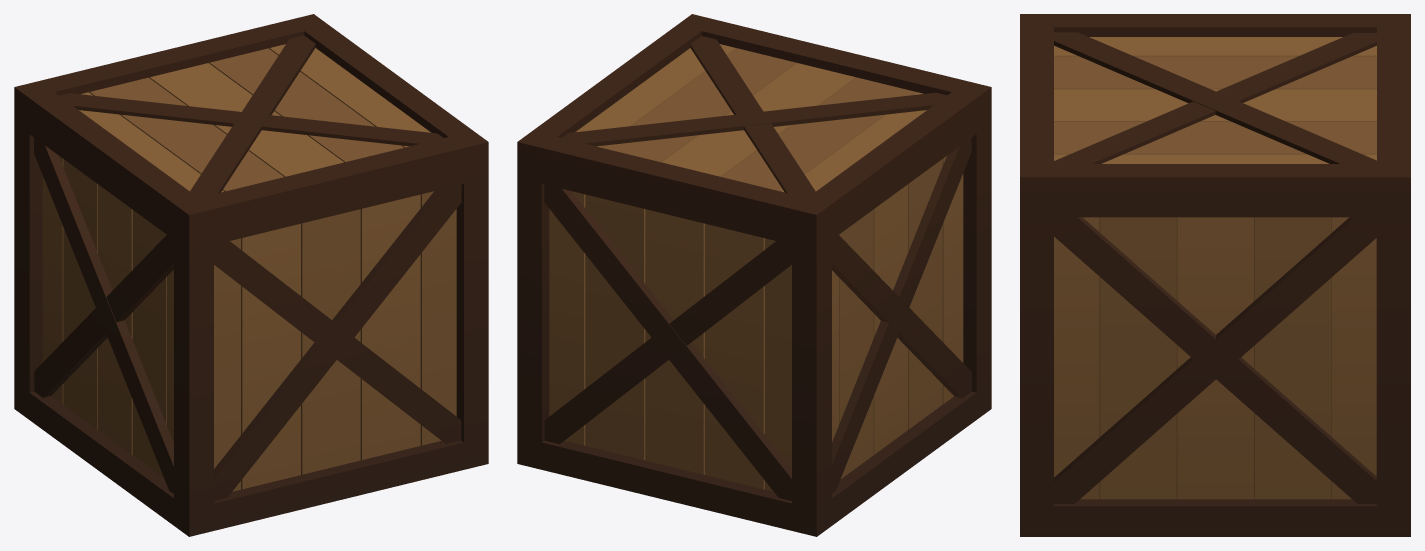
The model's file is Prop_Crate_Box_01.obj.
3 views of the same model, side by side, from view 1: azimuth 30°, elevation 25°; view 2: azimuth 150°, elevation 25°; view 3: azimuth 270°, elevation 25° (orthographic). The views are drawn at different scales.
Parts seen in each view (by area): view 1: Prop_Crate_Box_01; view 2: Prop_Crate_Box_01; view 3: Prop_Crate_Box_01.
Boxes of the visible parts, box(x1,y1,x2,y2) form: Prop_Crate_Box_01: box(14, 14, 488, 536); Prop_Crate_Box_01: box(517, 14, 991, 536); Prop_Crate_Box_01: box(1020, 14, 1410, 536).
Bounding box in the file's own units: 0.75 × 0.7704 × 0.7584.
Materials: 1 (1 with a texture image).
